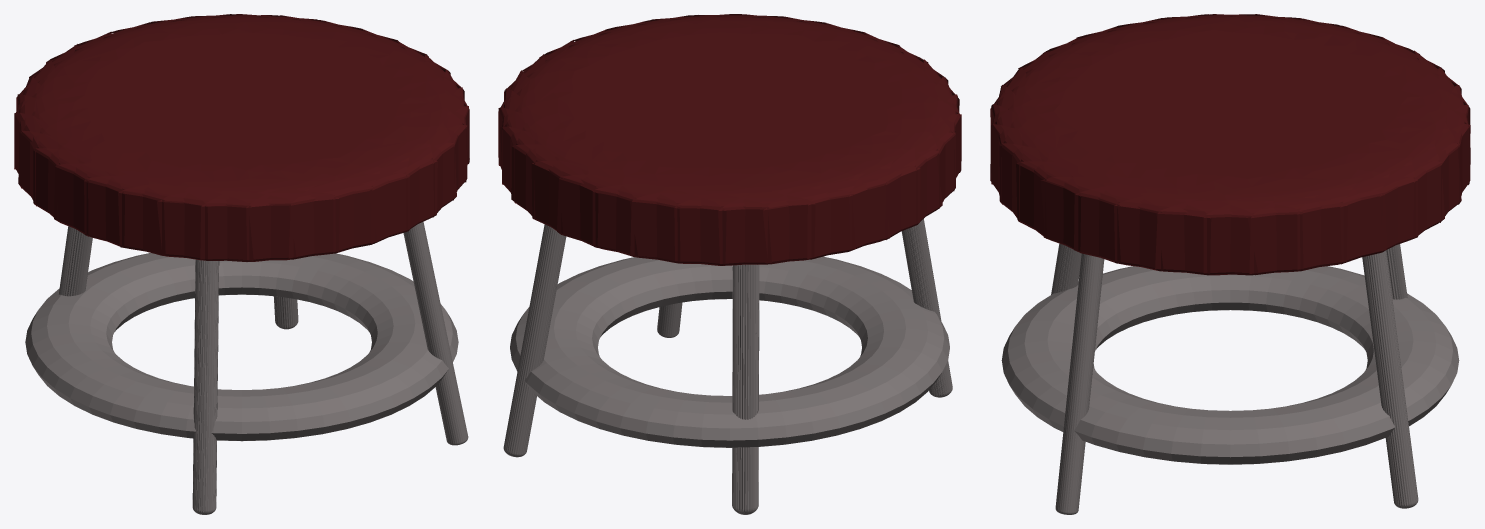
File: GuntersStool.fbx
3 renders of one model, left to right at view 1: azimuth 30°, elevation 25°; view 2: azimuth 150°, elevation 25°; view 3: azimuth 270°, elevation 25°, orthographic. The views are drawn at different scales.
Visible parts, largest first — view 1: Cylinder, Torus, Cylinder.002, Cylinder.004, Cylinder.001, Cylinder.003; view 2: Cylinder, Torus, Cylinder.001, Cylinder.003, Cylinder.002, Cylinder.004; view 3: Cylinder, Torus, Cylinder.003, Cylinder.004, Cylinder.002, Cylinder.001.
Boxes of the visible parts, x1,y1,x2,y2 form: Cylinder: (14,14,469,261); Torus: (25,253,458,441); Cylinder.002: (192,259,219,514); Cylinder.004: (403,221,468,445); Cylinder.001: (58,226,92,296); Cylinder.003: (273,296,298,329); Cylinder: (498,14,961,265); Torus: (510,256,949,447); Cylinder.001: (732,264,759,514); Cylinder.003: (503,224,566,457); Cylinder.002: (901,218,952,397); Cylinder.004: (657,302,682,337); Cylinder: (990,14,1470,275); Torus: (1001,266,1459,464); Cylinder.003: (1362,250,1418,508); Cylinder.004: (1055,253,1104,514); Cylinder.002: (1051,243,1081,294); Cylinder.001: (1386,244,1407,299).
Bounding box in the file's own units: 49.44 × 38.65 × 49.44.
